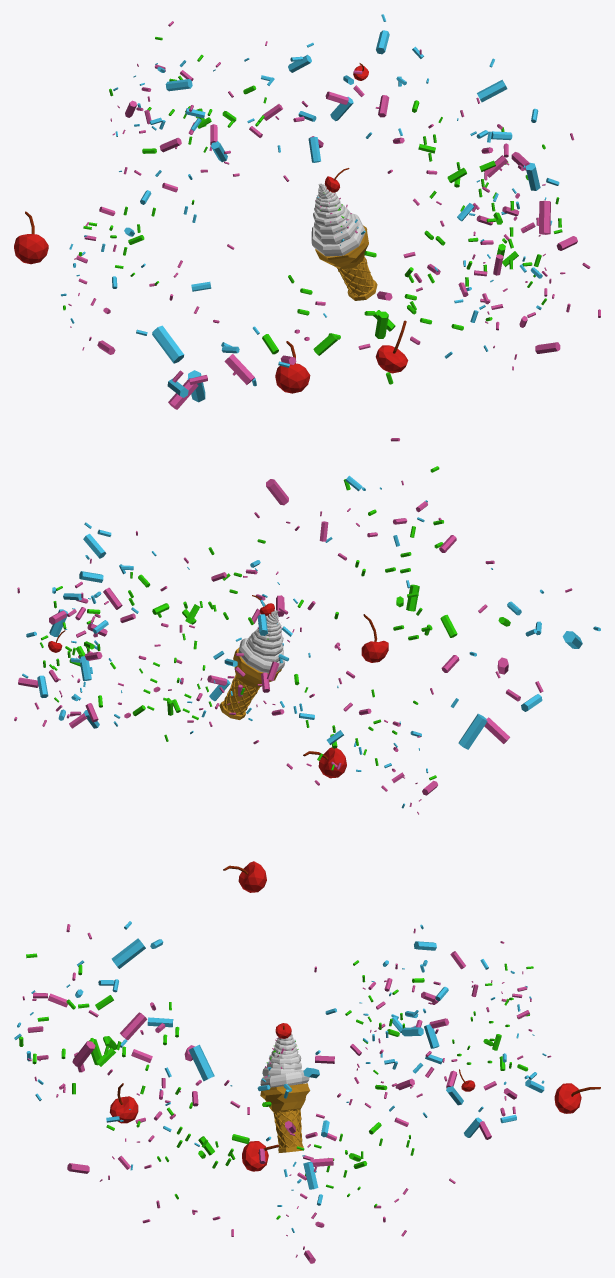
Rendered from icecream.gltf.
The picture shows the model from 3 angles, top to bottom: view 1: azimuth 30°, elevation 25°; view 2: azimuth 150°, elevation 25°; view 3: azimuth 270°, elevation 25°; orthographic projection. The views are drawn at different scales.
Visible parts, largest first — view 1: object 3, Torus.001, object 2, object 5, object 4, object 9, Icosphere.000, Icosphere.005, Icosphere.004; view 2: object 3, Torus.001, object 2, object 5, object 4, object 9, Icosphere.000, Icosphere.005, Icosphere.004; view 3: object 3, Torus.001, object 2, object 4, object 5, object 9, Icosphere.000, Icosphere.004, Icosphere.005.
Part boxes in pixels (x1,y1,x2,y2): object 3: (136,170,565,409); Torus.001: (311,168,377,300); object 2: (459,58,600,370); object 5: (61,60,234,354); object 4: (325,14,577,270); object 9: (109,21,323,181); Icosphere.000: (14,211,48,264); Icosphere.005: (275,341,310,393); Icosphere.004: (375,320,408,373); object 3: (266,438,600,749); Torus.001: (219,595,284,719); object 2: (49,512,303,663); object 5: (207,600,437,814); object 4: (14,555,115,726); object 9: (22,625,279,741); Icosphere.000: (223,861,266,892); Icosphere.005: (303,747,346,778); Icosphere.004: (361,614,388,662); object 3: (14,921,240,1123); Torus.001: (260,1023,310,1152); object 2: (67,1048,333,1236); object 4: (276,1010,463,1263); object 5: (314,924,449,1098); object 9: (412,941,551,1139); Icosphere.000: (554,1083,600,1113); Icosphere.004: (109,1083,138,1123); Icosphere.005: (242,1141,278,1171).
Bounding box in the file's own units: 18.13 × 9.3 × 19.01.
